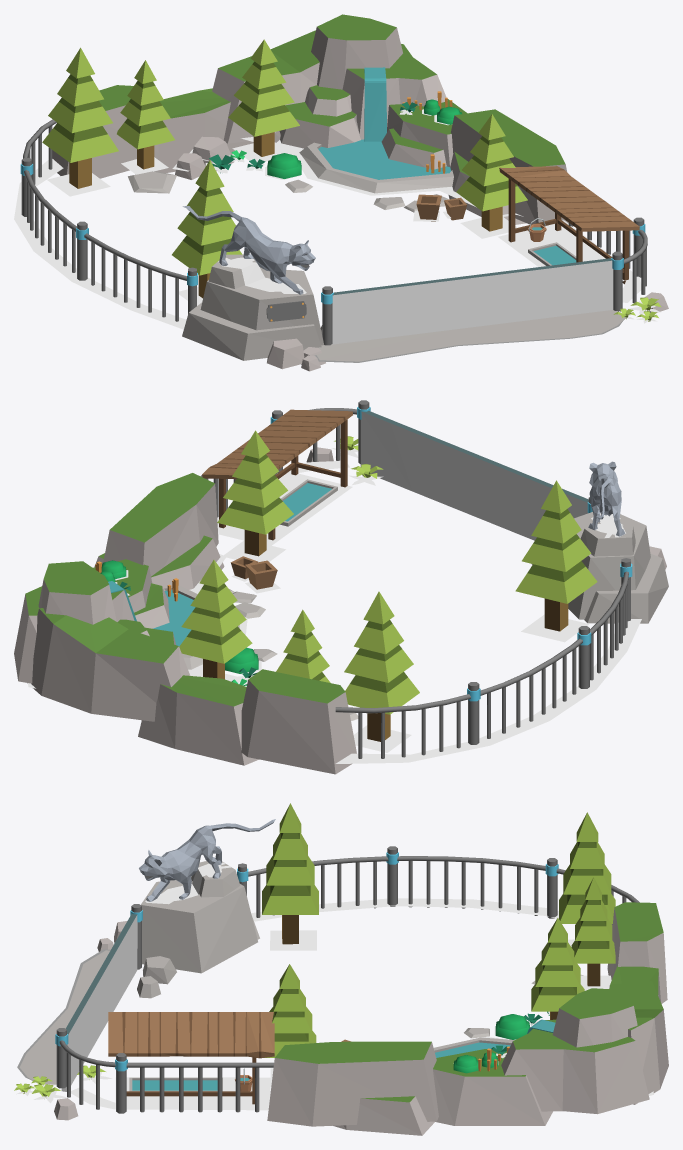
File: xweilan_1001_3.FBX
3 renders of one model, top to bottom at view 1: azimuth 30°, elevation 25°; view 2: azimuth 150°, elevation 25°; view 3: azimuth 270°, elevation 25°, orthographic. The views are drawn at different scales.
Parts seen in each view (by area): view 1: xweilan_1001_3; view 2: xweilan_1001_3; view 3: xweilan_1001_3.
Part boxes in pixels (x1,y1,x2,y2): xweilan_1001_3: (14,14,668,371); xweilan_1001_3: (14,400,668,774); xweilan_1001_3: (14,803,668,1135).
Size of the model in its own units: 4941 by 1628 by 6021.
